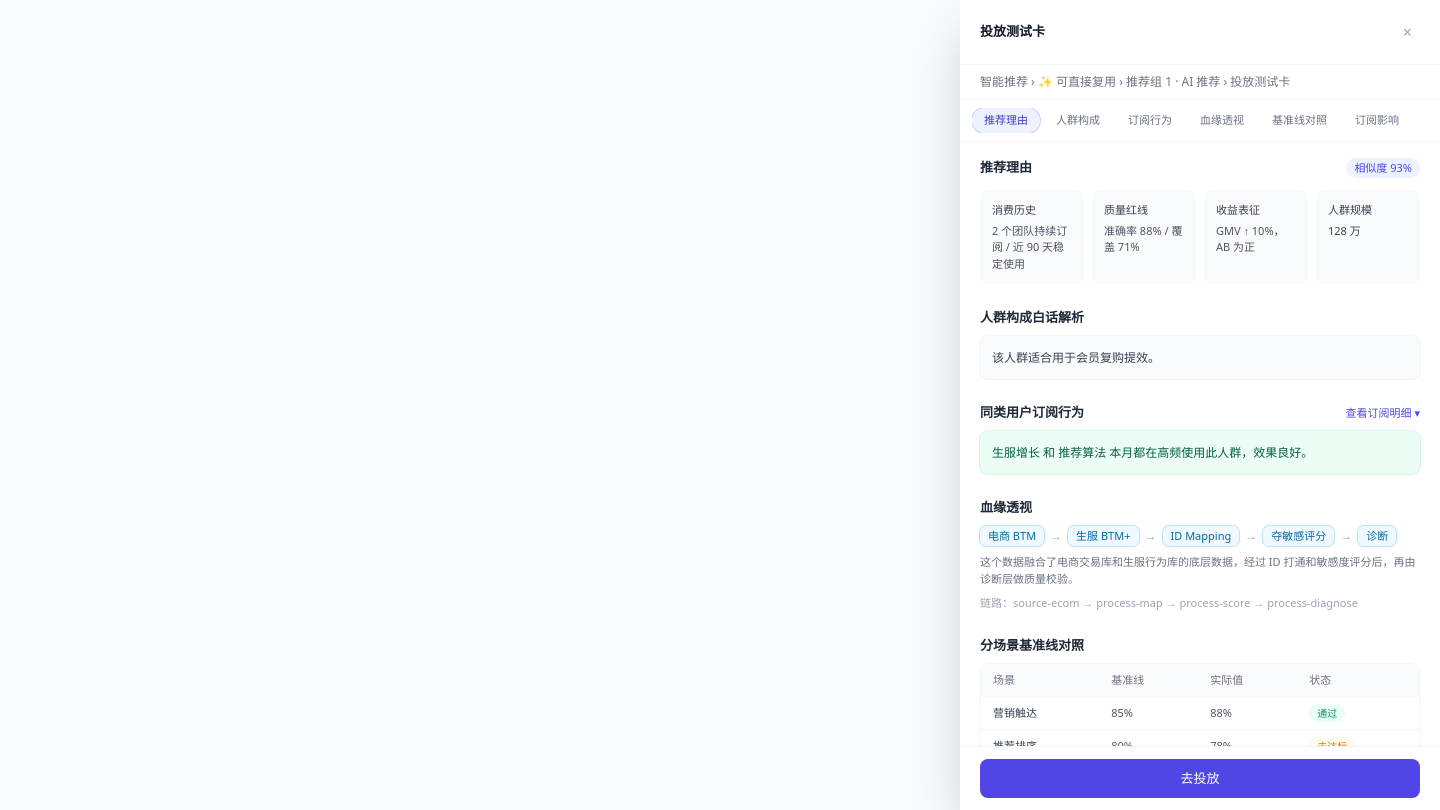
Scenario: AssetDrawer › 打开 ready 配置后保留详情抽屉，并在再次打开时恢复上次填写选项
Click the button "去投放" at [1200, 778], box [980,758,1420,798]
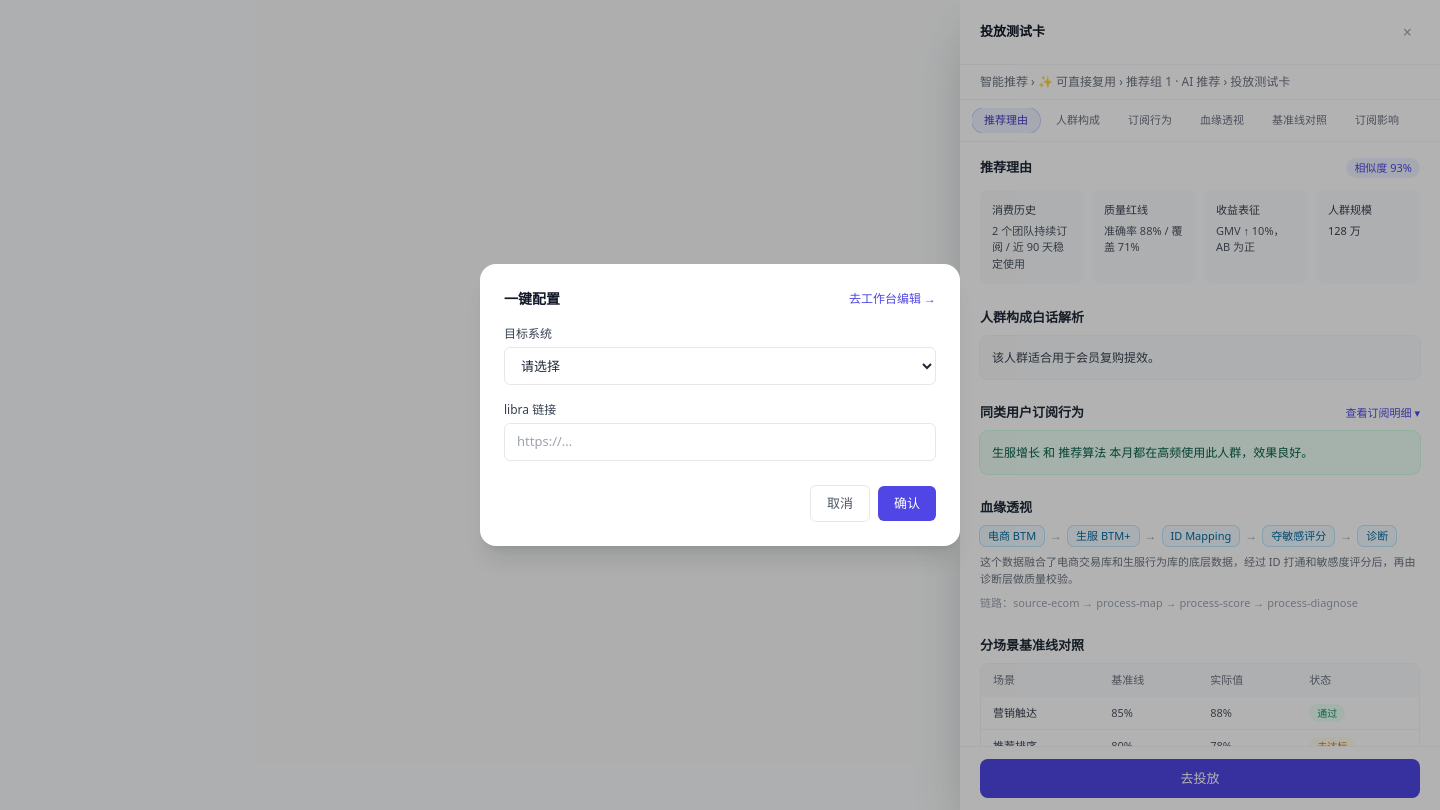
Check: the dialog "投放测试卡" is shown, box [960,0,1439,809]
Check: the dialog "一键配置" is shown, box [480,264,960,546]
Select "生服 DMP（LDMP）" in the dropdown at [720, 366], box [504,347,936,385]
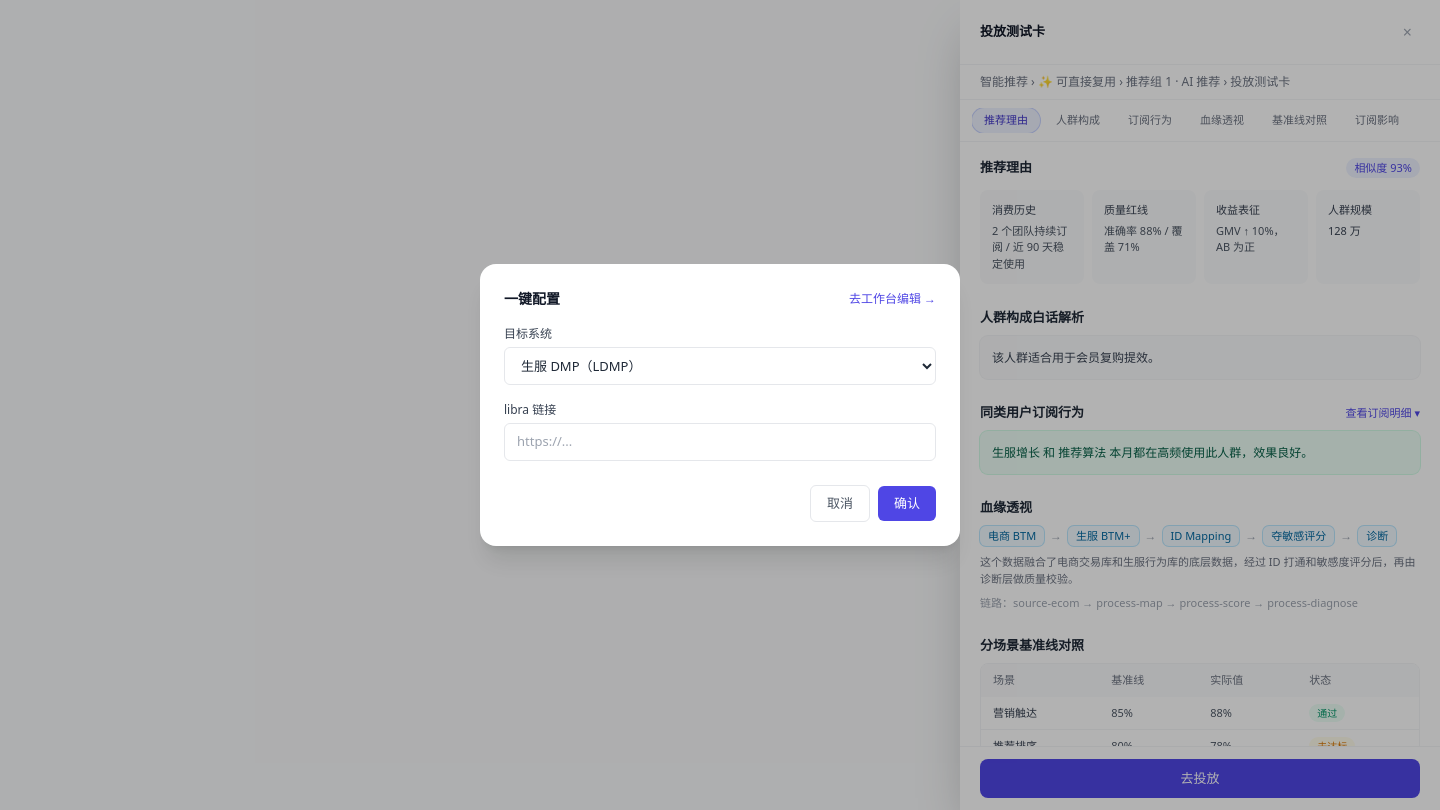
Type "https://example.com/deploy" into the field with placeholder "https://..." at [720, 442], box [504,423,936,460]
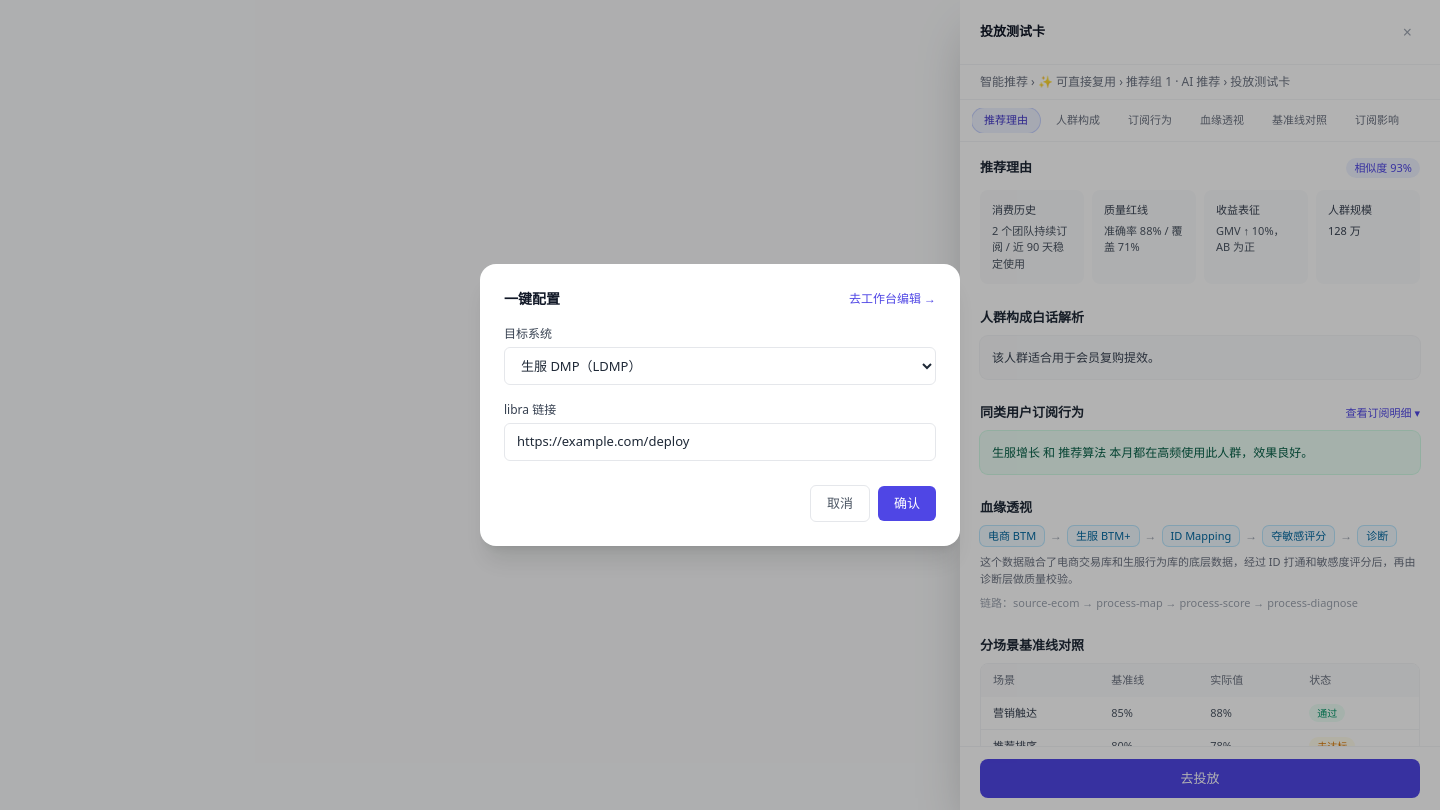
Click the button "取消" at [840, 503], box [810,484,870,522]
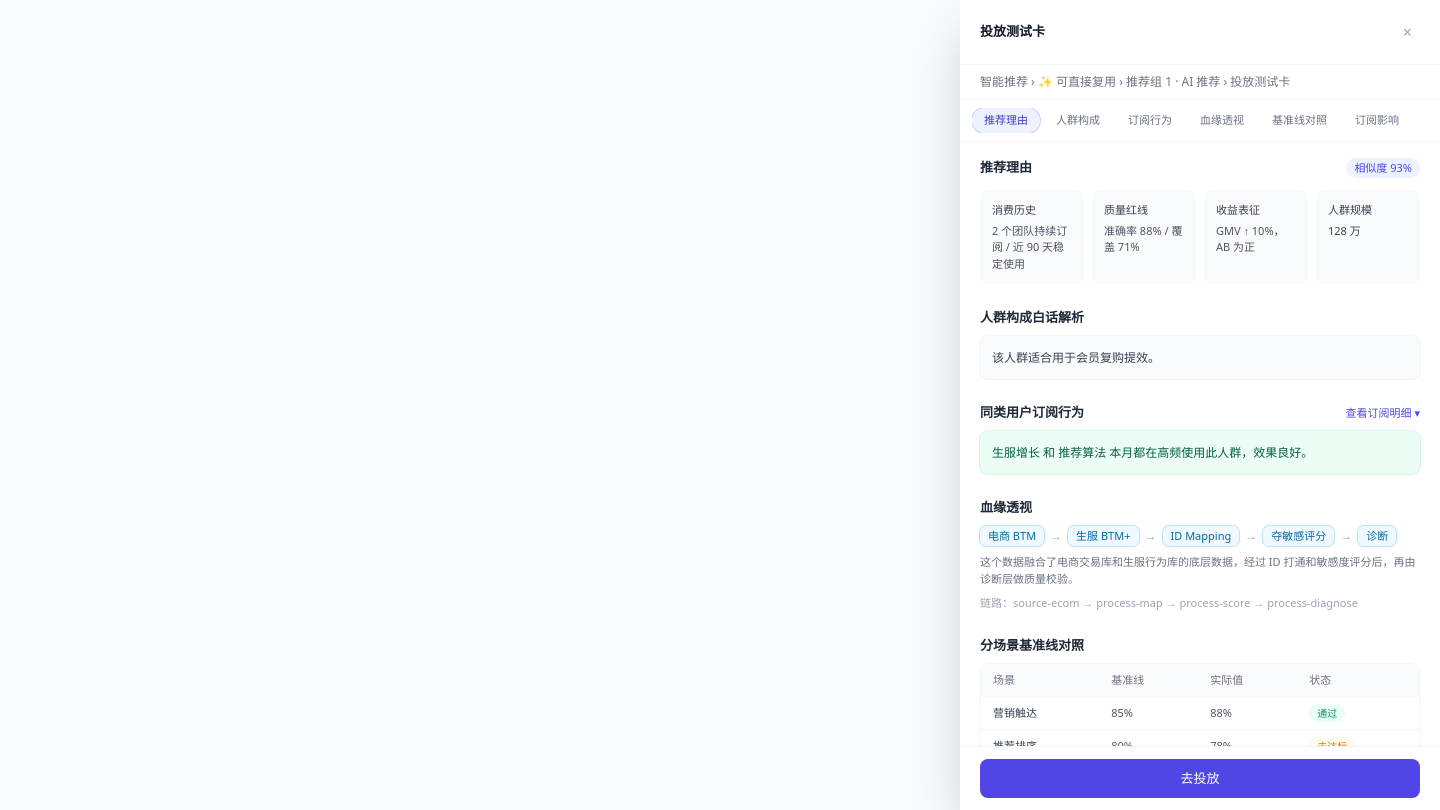
Check: the dialog "投放测试卡" is shown, box [960,0,1439,809]
Check: the heading "一键配置" is gone
Click the button "去投放" at [1200, 778], box [980,758,1420,798]
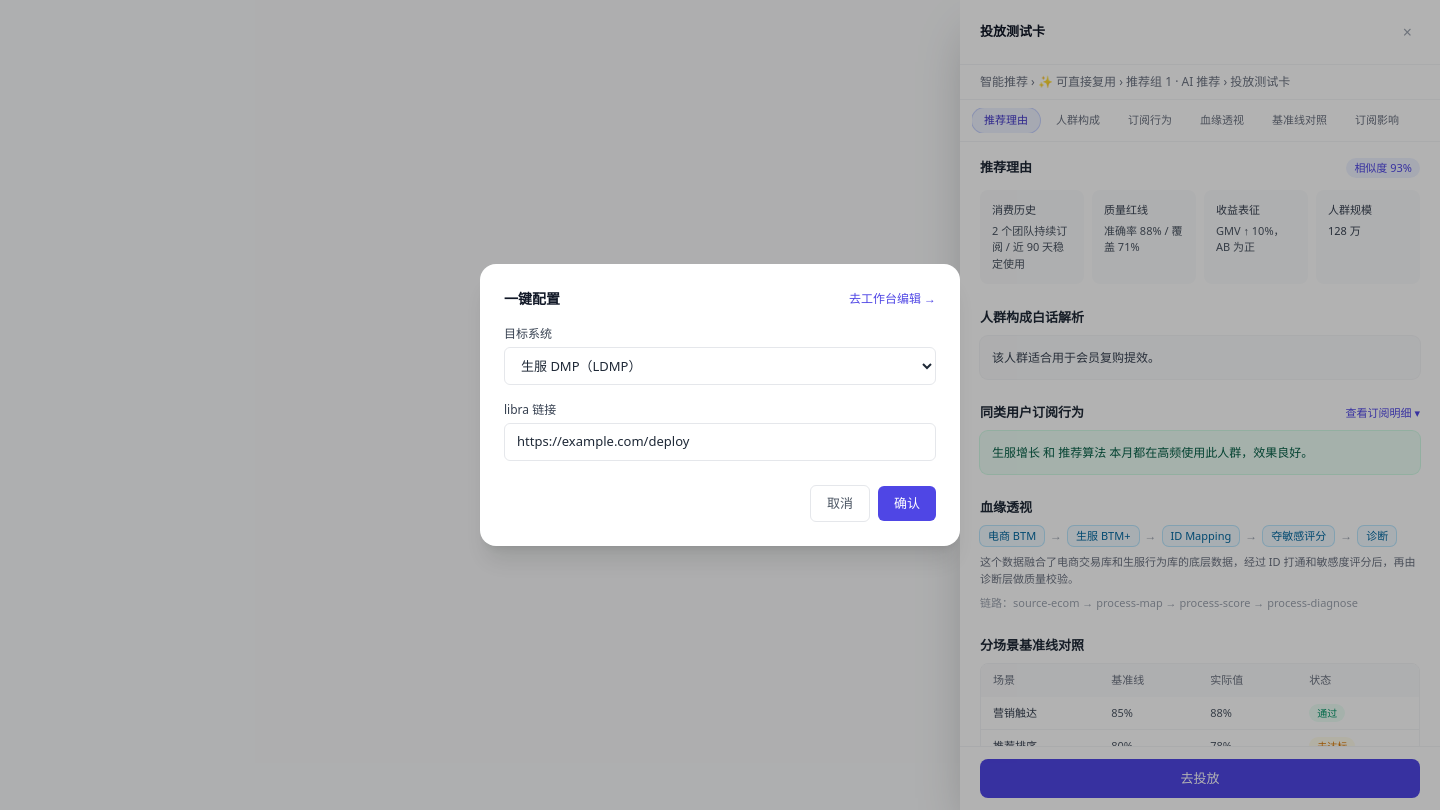
Check: the dropdown shows "生服 DMP（LDMP）", box [504,347,936,385]
Check: the field with placeholder "https://..." holds "https://example.com/deploy", box [504,423,936,460]
Click the button "确认" at [907, 503], box [878,486,936,521]
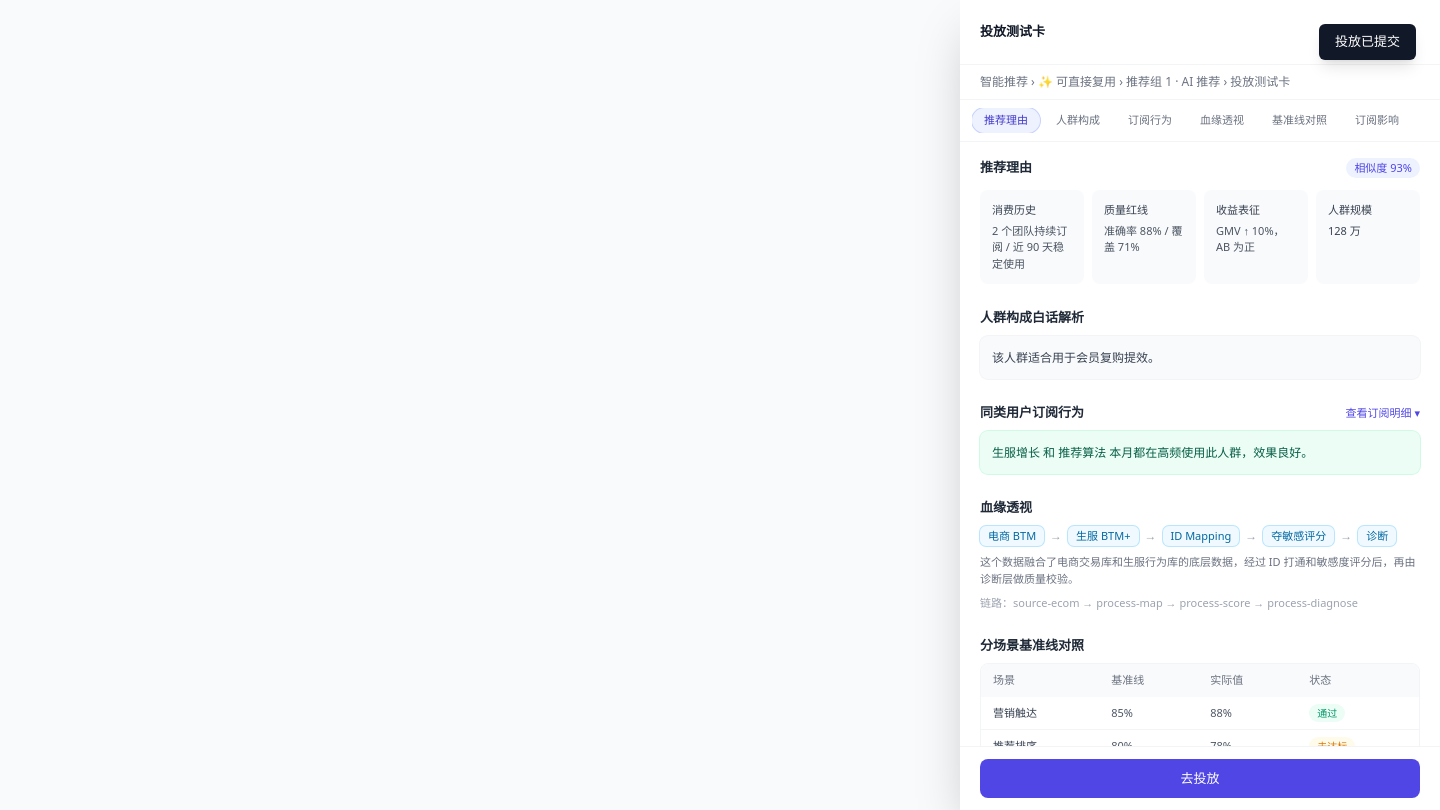
Check: the dialog "投放测试卡" is shown, box [960,0,1439,809]
Check: the heading "一键配置" is gone
Check: the text "投放已提交" is shown, box [1319,24,1416,60]
